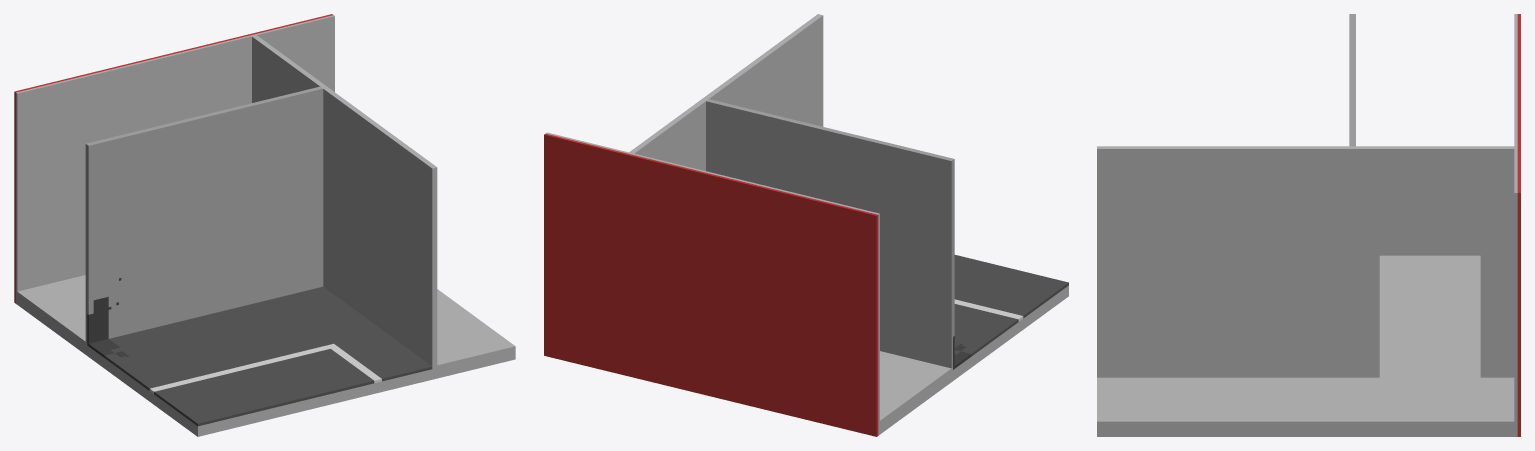
The model's file is 4x2 first (1)-2.obj.
3 views of the same model, side by side, from view 1: azimuth 30°, elevation 25°; view 2: azimuth 150°, elevation 25°; view 3: azimuth 270°, elevation 25° (orthographic). The views are drawn at different scales.
Parts seen in each view (by area): view 1: 4x2 first (1)-2; view 2: 4x2 first (1)-2; view 3: 4x2 first (1)-2.
Part boxes in pixels (left/top/right/bottom): 4x2 first (1)-2: left=14, top=14, right=515, bottom=436; 4x2 first (1)-2: left=544, top=14, right=1068, bottom=436; 4x2 first (1)-2: left=1097, top=14, right=1520, bottom=436.
Size of the model in its own units: 126 by 80 by 126.
Materials: 1 (1 with a texture image).
